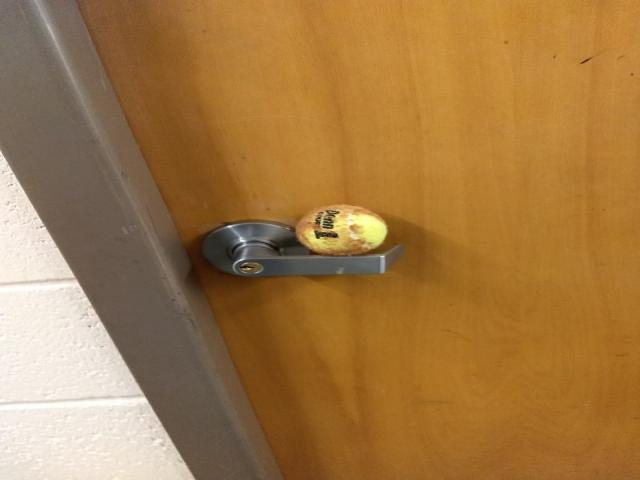tennis-ball: (293, 203, 389, 256)
